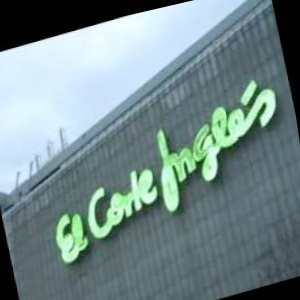corte_ingles: (12, 97, 300, 227)
